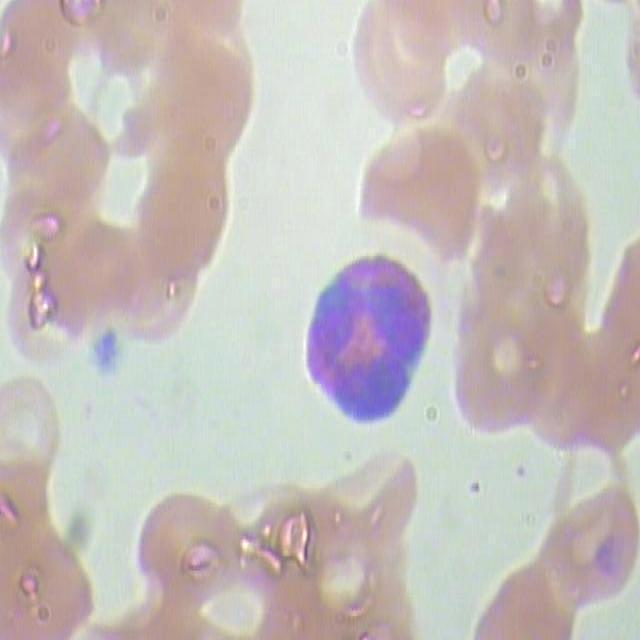Platelets: (89, 331, 134, 384)
RBC: (345, 124, 491, 265), (128, 482, 244, 618), (0, 96, 116, 232), (137, 146, 236, 294), (350, 0, 449, 148), (503, 164, 602, 312), (161, 27, 260, 175), (447, 308, 550, 448), (538, 422, 639, 562), (538, 484, 639, 624), (0, 373, 74, 512), (0, 0, 92, 107), (323, 455, 431, 544), (85, 0, 173, 88), (478, 560, 576, 639)
WBC: (285, 236, 440, 439)
